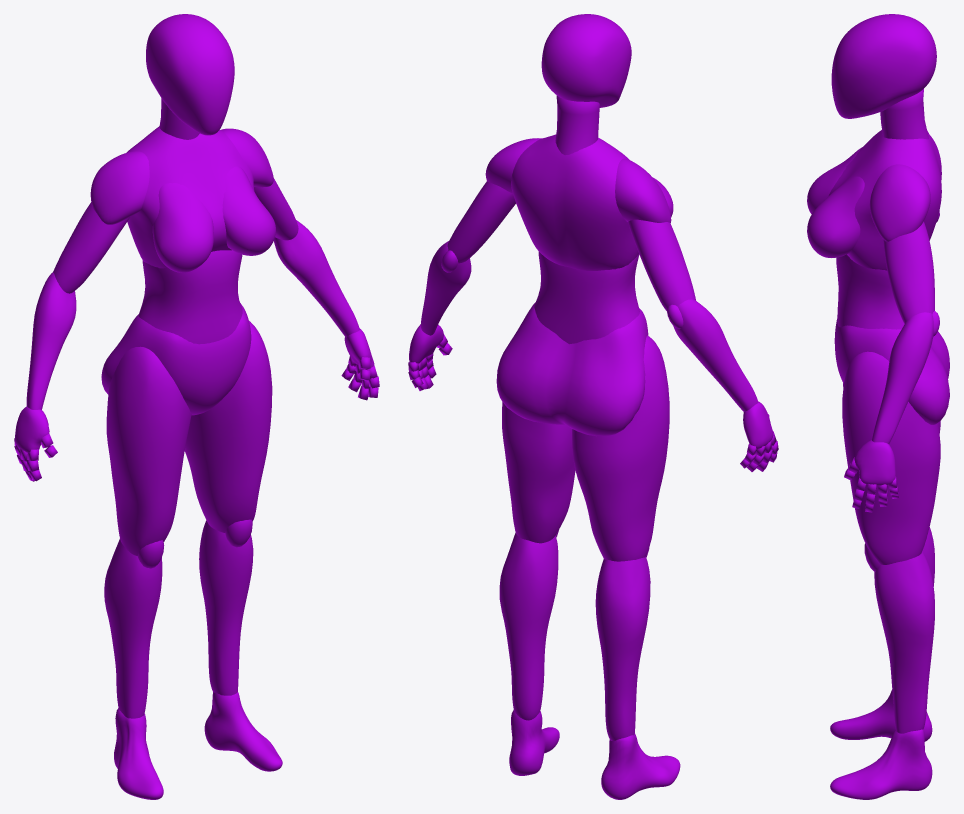
3 views of the same model, side by side, from view 1: azimuth 30°, elevation 25°; view 2: azimuth 150°, elevation 25°; view 3: azimuth 270°, elevation 25° (orthographic).
Parts seen in each view (by area): view 1: F_Upper_Leg_R, F_Upper_Leg_L, F_Head, F_Chest, F_Stomach, F_Hips, F_Lower_Leg_R, F_Lower_Leg_L, F_Breast_R, F_Lower_Arm_R, F_Lower_Arm_L, F_Breast_L (+9 smaller); view 2: F_Hips, F_Chest, F_Upper_Leg_R, F_Lower_Leg_L, F_Upper_Leg_L, F_Lower_Leg_R, F_Stomach, F_Head, F_Lower_Arm_R, F_Upper_Arm_R, F_Feet_R, F_Upper_Arm_L (+7 smaller); view 3: F_Upper_Leg_L, F_Head, F_Lower_Leg_L, F_Chest, F_Hips, F_Feet_L, F_Lower_Arm_L, F_Stomach, F_Upper_Arm_L, F_Shoulder_L, F_Breast_L, F_Feet_R (+4 smaller).
Part boxes in pixels (x1,y1,x2,y2): F_Upper_Leg_R: [106, 346, 191, 555]; F_Upper_Leg_L: [184, 321, 272, 532]; F_Head: [146, 14, 234, 135]; F_Chest: [126, 126, 254, 268]; F_Stomach: [138, 250, 242, 344]; F_Hips: [101, 303, 251, 415]; F_Lower_Leg_R: [104, 539, 162, 718]; F_Lower_Leg_L: [199, 520, 253, 695]; F_Breast_R: [152, 183, 213, 272]; F_Lower_Arm_R: [26, 272, 76, 409]; F_Lower_Arm_L: [274, 220, 359, 337]; F_Breast_L: [222, 166, 275, 255]; F_Hips: [496, 302, 648, 436]; F_Chest: [511, 134, 638, 270]; F_Upper_Leg_R: [572, 335, 669, 561]; F_Lower_Leg_L: [499, 532, 558, 720]; F_Upper_Leg_L: [502, 402, 575, 543]; F_Lower_Leg_R: [595, 556, 650, 740]; F_Stomach: [534, 251, 639, 344]; F_Head: [541, 14, 631, 107]; F_Lower_Arm_R: [673, 299, 758, 411]; F_Upper_Arm_R: [628, 219, 695, 311]; F_Feet_R: [601, 733, 680, 799]; F_Upper_Arm_L: [447, 181, 515, 263]; F_Upper_Leg_L: [842, 351, 940, 564]; F_Head: [831, 14, 936, 118]; F_Lower_Leg_L: [874, 551, 934, 733]; F_Chest: [828, 130, 941, 270]; F_Hips: [834, 319, 949, 424]; F_Feet_L: [830, 729, 932, 799]; F_Lower_Arm_L: [872, 312, 933, 443]; F_Stomach: [836, 254, 904, 329]; F_Upper_Arm_L: [883, 221, 934, 323]; F_Shoulder_L: [869, 164, 930, 241]; F_Breast_L: [807, 176, 864, 257]; F_Feet_R: [830, 689, 932, 741].
Bounding box in the file's own units: 5.27 × 10.71 × 1.86.
